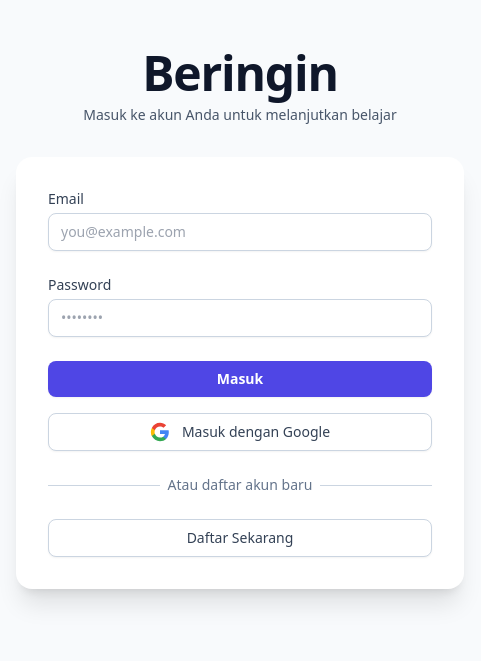
Test: LoginPage › shows default error message on failed login without error message
Type "user@example.com" into the field labelled "Email". click: (240, 232)
box: [48,213,432,251]
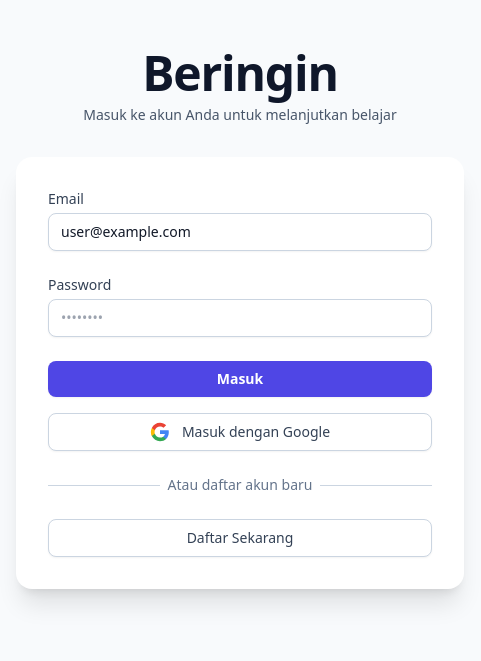
Type "password123" into the password field labelled "Password". click: (240, 318)
box: [48,299,432,337]
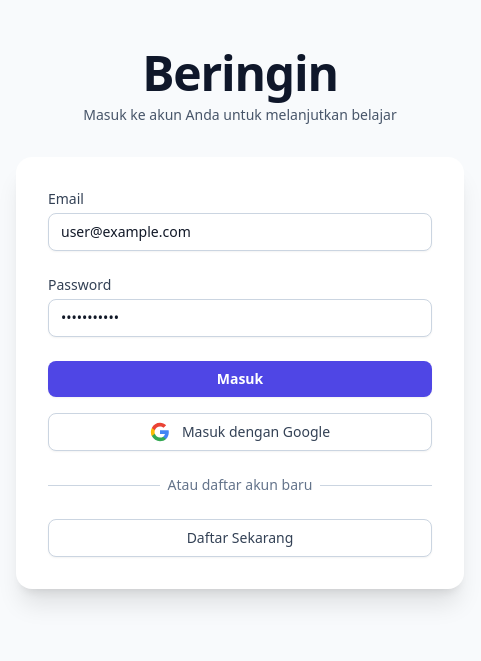
Click the button "Masuk". click: click(240, 379)
box: [48,361,432,397]
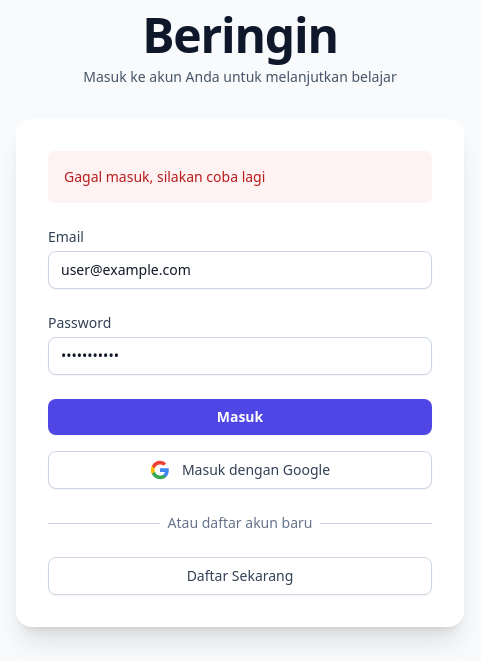
Check: the text "Gagal masuk, silakan coba lagi" is shown, box [48,151,432,203]
